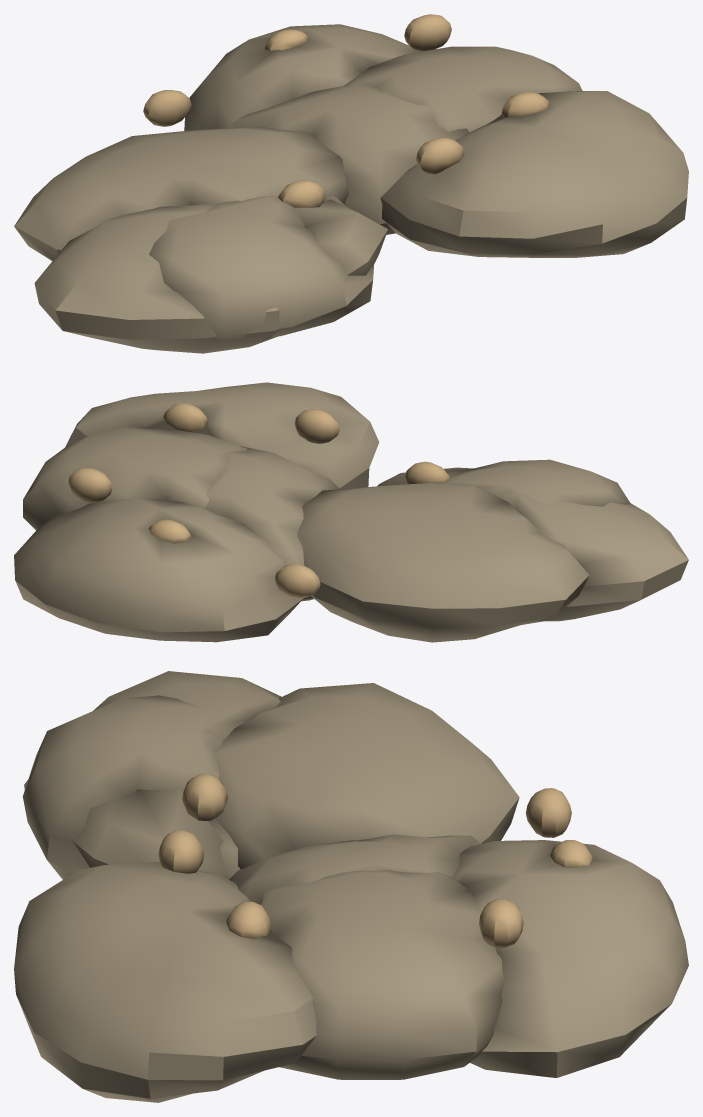
Rendered from netpile.glb.
The picture shows the model from 3 angles, top to bottom: view 1: azimuth 30°, elevation 25°; view 2: azimuth 150°, elevation 25°; view 3: azimuth 270°, elevation 25°; orthographic projection. The views are drawn at different scales.
Visible parts, largest first — view 1: boat_net, boat_cork; view 2: boat_net, boat_cork; view 3: boat_net, boat_cork.
Part boxes in pixels (x1,y1,x2,y2): boat_net: (14,24,688,353); boat_cork: (143,14,549,207); boat_net: (14,382,688,642); boat_cork: (68,403,449,598); boat_net: (14,671,688,1102); boat_cork: (158,774,592,947).
Bounding box in the file's own units: 1.39 × 0.3109 × 1.02.
